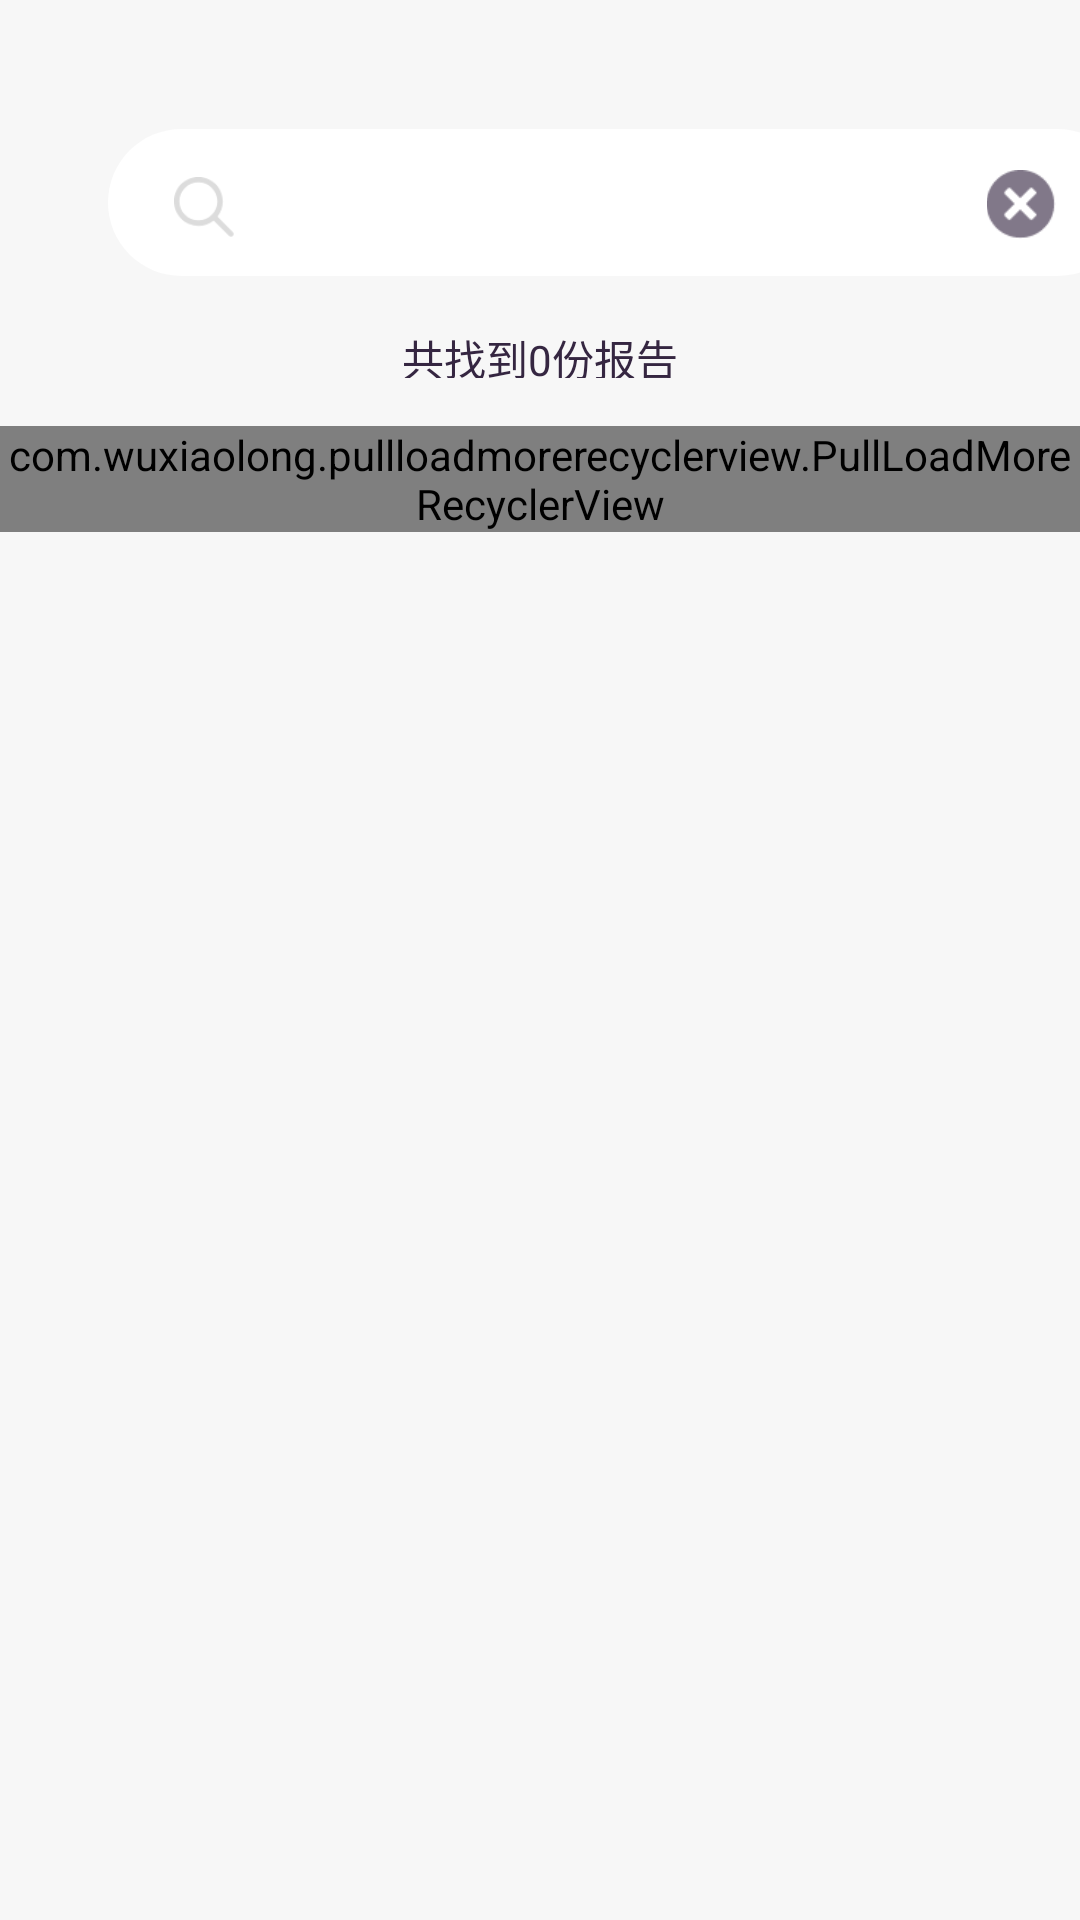

Icons on this 1080px×1920px Android screen, each with its box as bbox=(x1, y1, x2, y2):
clean search: bbox=(987, 170, 1055, 238)
search: bbox=(174, 177, 233, 236)
